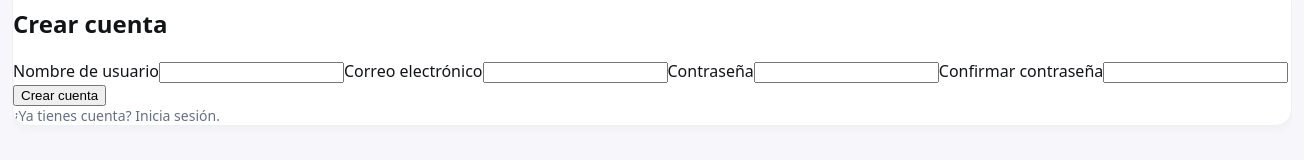
Scenario: RegisterPage › valida longitud de contraseña y contraseñas distintas
// Rellenamos username y email para no bloquear submit por "required"
In the field labelled "Nombre de usuario": (252, 72) [159,62,344,83], type "demo"
In the field labelled "Correo electrónico": (575, 72) [482,62,668,83], type "demo@mail.com"
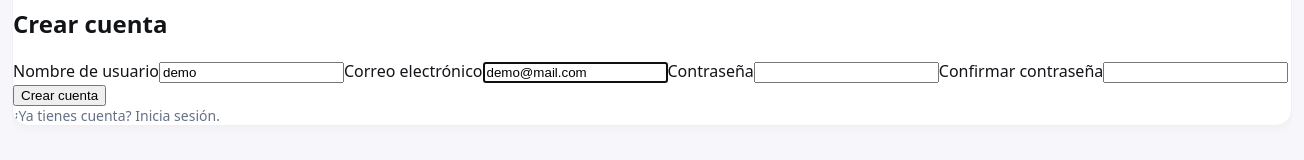
// Contraseña corta
In the password field labelled "Contraseña": (846, 72) [754,62,939,83], type "123"
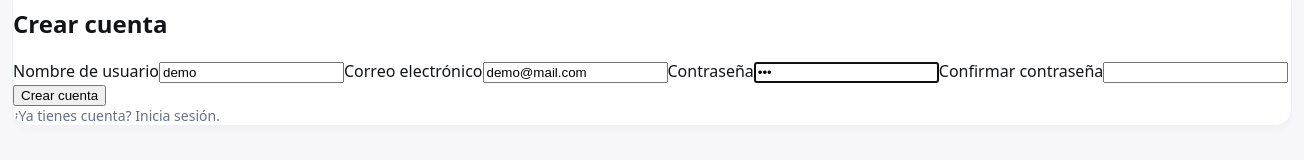
In the password field labelled "Confirmar contraseña": (1196, 72) [1103,62,1288,83], type "123"
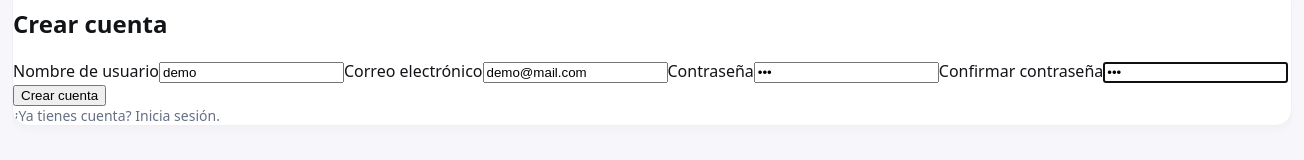
Click the button "Crear cuenta": (60, 95) [13,85,106,106]
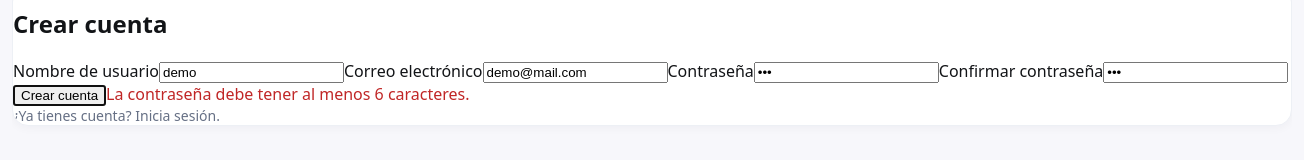
Expected: the text "La contraseña debe tener al menos 6 caracteres." is shown, [106,83,470,105]
// Contraseñas no coinciden
In the password field labelled "Contraseña": (846, 72) [754,62,939,83], type "123456"
In the password field labelled "Confirmar contraseña": (1196, 72) [1103,62,1288,83], type "000000"
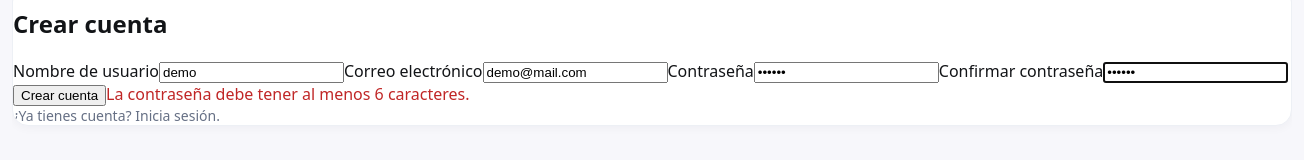
Click the button "Crear cuenta": (60, 95) [13,85,106,106]
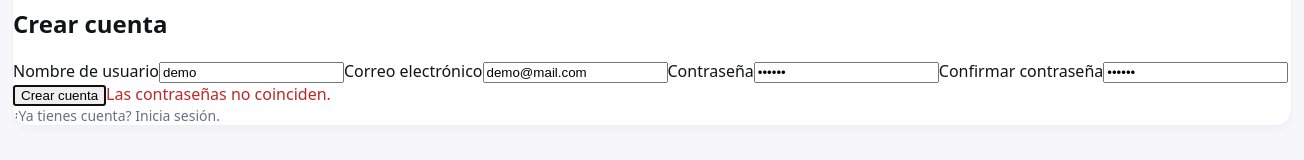
Expected: the text "Las contraseñas no coinciden." is shown, [106,83,331,105]
